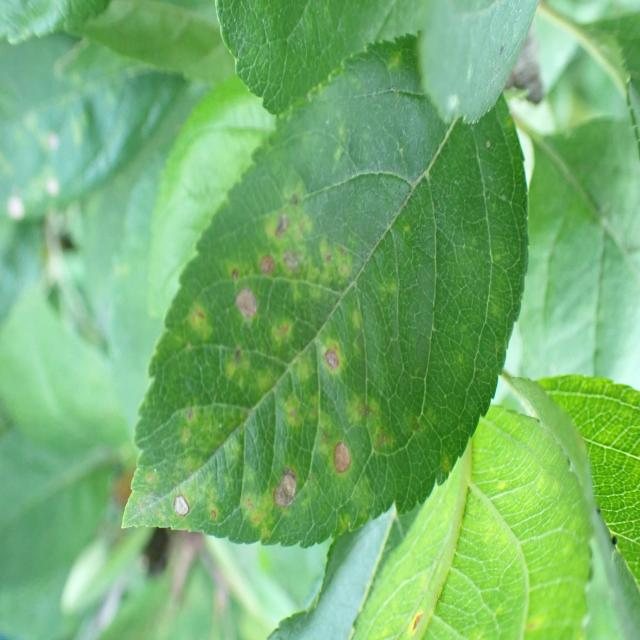frog-eye-leaf-spot: (120, 29, 530, 549)
